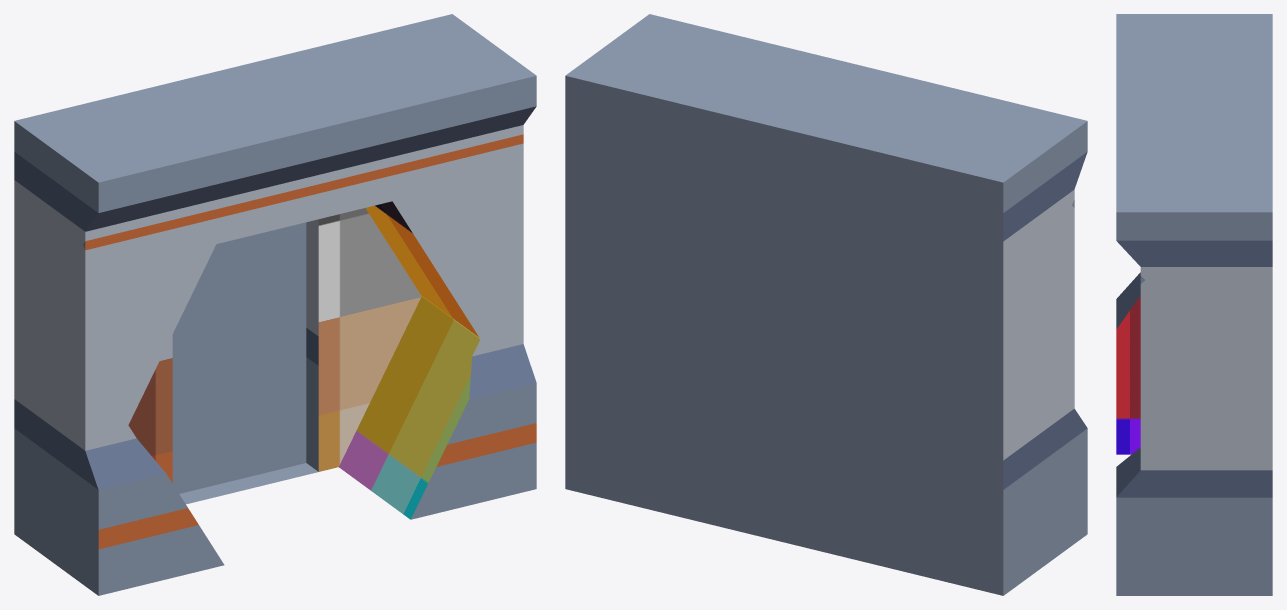
Rendered from wallDoorFrameOrange.fbx.
The picture shows the model from 3 angles, left to right: view 1: azimuth 30°, elevation 25°; view 2: azimuth 150°, elevation 25°; view 3: azimuth 270°, elevation 25°; orthographic projection. The views are drawn at different scales.
Visible parts, largest first — view 1: redWall1.001; view 2: redWall1.001; view 3: redWall1.001.
Boxes of the visible parts, x1=… form: redWall1.001: x1=14, y1=14, x2=536, y2=595; redWall1.001: x1=565, y1=14, x2=1087, y2=595; redWall1.001: x1=1116, y1=14, x2=1272, y2=595.
Size of the model in its own units: 600 by 541 by 200.
